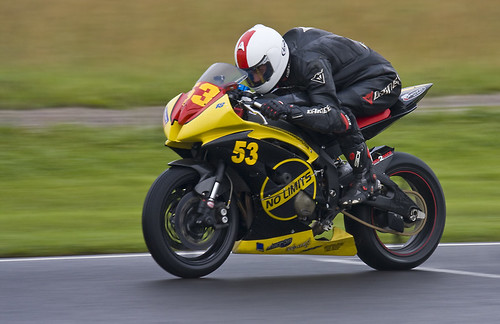helmet: (226, 24, 289, 89)
